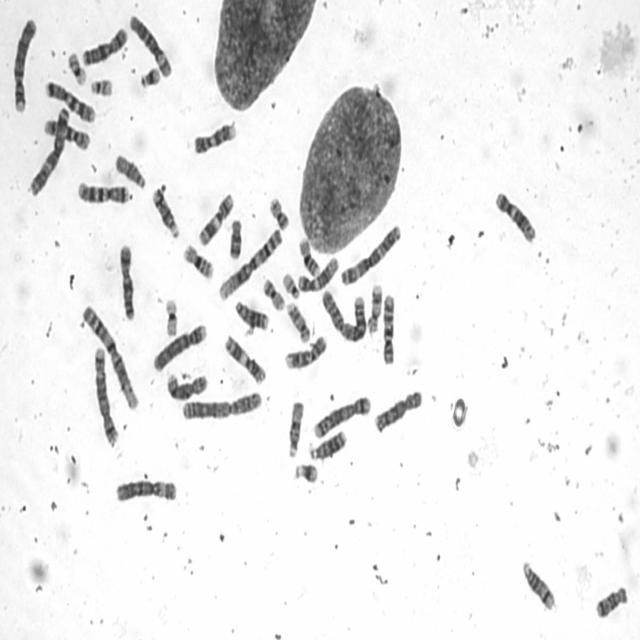A1: (79, 302, 140, 412), (216, 225, 284, 303)
A2: (318, 285, 369, 344), (178, 387, 263, 422)
A3: (339, 221, 403, 286), (27, 104, 71, 196)
B4: (151, 320, 208, 374), (11, 15, 38, 116)
B5: (312, 392, 373, 441), (92, 344, 119, 446)
C10: (40, 116, 91, 152), (380, 290, 397, 366)
C11: (221, 331, 268, 387), (196, 189, 236, 248)
C12: (493, 188, 537, 245), (296, 253, 339, 294)
C6: (128, 12, 172, 78), (113, 476, 178, 504)
C7: (43, 78, 96, 124), (76, 178, 130, 206)
C8: (371, 385, 424, 435), (165, 369, 209, 401)
C9: (282, 332, 328, 371), (191, 118, 237, 156)
D13: (307, 426, 347, 462), (233, 297, 270, 332)
D14: (520, 558, 557, 612), (150, 182, 180, 241)
D15: (114, 150, 146, 191), (286, 397, 305, 459)
E16: (181, 240, 215, 282), (296, 233, 321, 278)
E17: (284, 298, 312, 344), (366, 282, 384, 336)
E18: (593, 583, 629, 620), (227, 216, 244, 261)
F19: (66, 49, 88, 88), (162, 296, 180, 338)
F20: (261, 275, 286, 313), (267, 194, 291, 232)
G21: (292, 459, 319, 484), (137, 63, 162, 89)
G22: (88, 74, 114, 98), (281, 270, 300, 300)
X: (80, 24, 129, 67), (117, 241, 136, 321)
